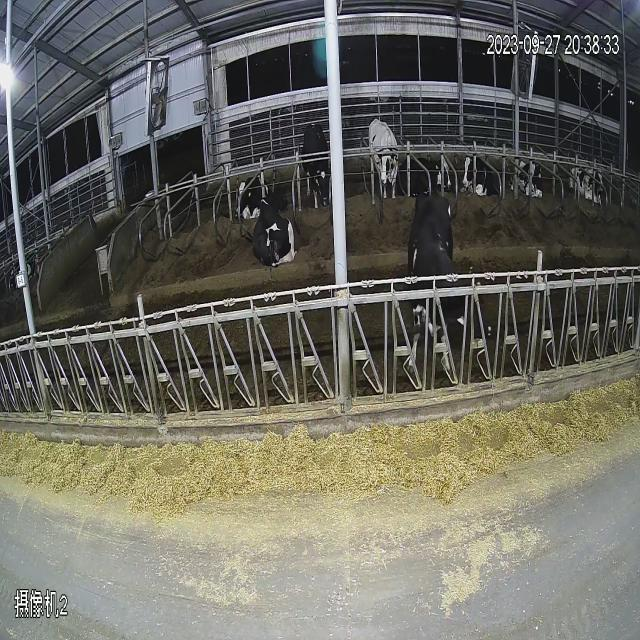lying down: (252, 181, 310, 288), (560, 136, 610, 222), (510, 136, 550, 210), (462, 141, 502, 203), (425, 137, 460, 191)
standing: (408, 207, 511, 399), (362, 99, 408, 211), (294, 106, 340, 218)
